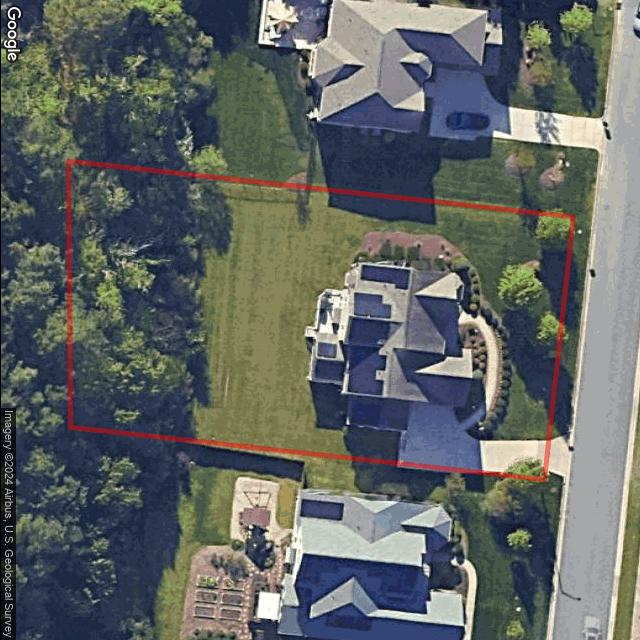Driveway: (397, 403, 549, 473)
Extra-Driveway: (547, 433, 569, 479)
Extra-Lawn: (549, 216, 591, 440)
House: (340, 259, 472, 409)
Lawn: (67, 160, 571, 479)
Other: (68, 161, 192, 439), (361, 230, 481, 314), (467, 288, 513, 440), (303, 264, 357, 384), (345, 394, 412, 431)
Sidewalk: (455, 311, 497, 433)
